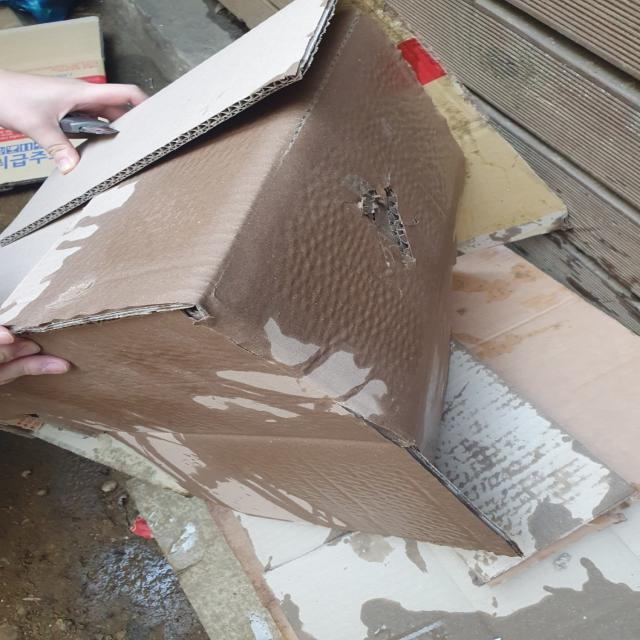wet: (78, 119, 478, 555)
